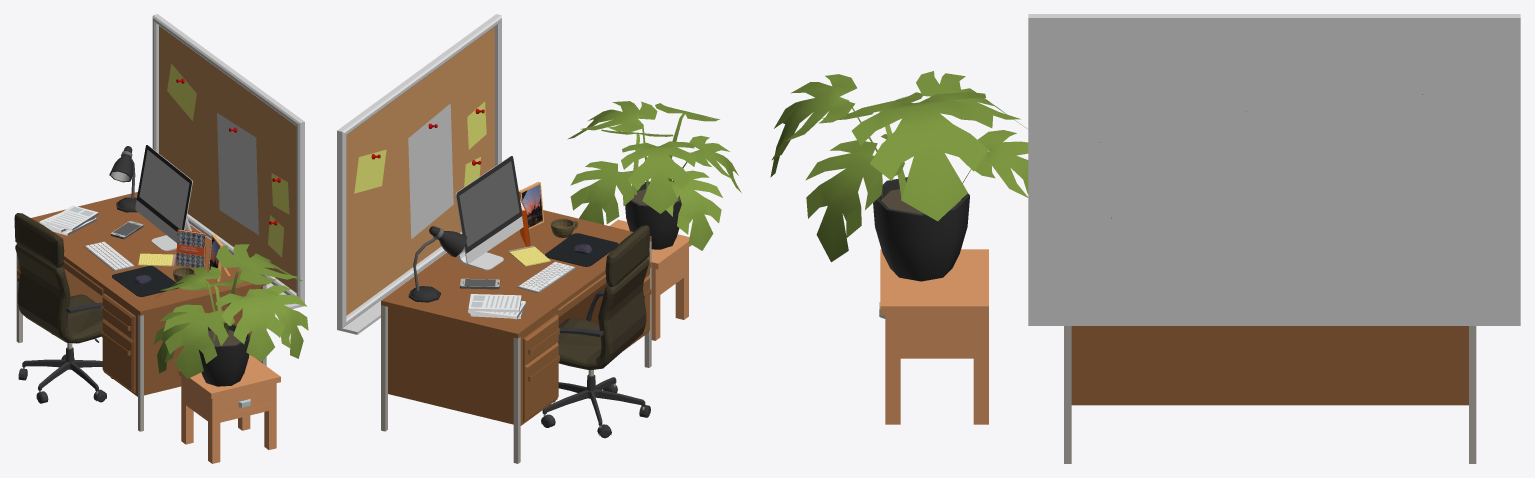
Rendered from scene-full.glb.
3 views of the same model, side by side, from view 1: azimuth 30°, elevation 25°; view 2: azimuth 150°, elevation 25°; view 3: azimuth 270°, elevation 25° (orthographic). The views are drawn at different scales.
Visible parts, largest first — view 1: Message_Board, Desk, Houseplant, Chair, Cabinet Bed Drawer Tabl, Monitor_Plane, Monitor.001|iMac|Dupli|, Mousepad, Paper, VAP-cover, Light Desk, Notebook; view 2: Message_Board, Desk, Houseplant, Chair, Monitor_Plane, Cabinet Bed Drawer Tabl, Monitor.001|iMac|Dupli|, Mousepad, Light Desk, Paper, cornell-tech-sky, Notebook (+1 smaller); view 3: Message_Board, Desk, Houseplant, Cabinet Bed Drawer Tabl.
Boxes of the visible parts, bbox=[...] form: Message_Board: bbox=[152, 14, 304, 308]; Desk: bbox=[16, 192, 266, 431]; Houseplant: bbox=[153, 244, 308, 386]; Chair: bbox=[14, 213, 112, 403]; Cabinet Bed Drawer Tabl: bbox=[178, 354, 280, 463]; Monitor_Plane: bbox=[139, 149, 189, 229]; Monitor.001|iMac|Dupli|: bbox=[135, 145, 192, 251]; Mousepad: bbox=[112, 266, 178, 296]; Paper: bbox=[39, 205, 98, 235]; VAP-cover: bbox=[176, 231, 204, 267]; Light Desk: bbox=[109, 146, 137, 212]; Notebook: bbox=[138, 253, 176, 266]; Message_Board: bbox=[337, 14, 501, 334]; Desk: bbox=[381, 210, 651, 463]; Houseplant: bbox=[567, 101, 741, 250]; Chair: bbox=[541, 225, 650, 438]; Monitor_Plane: bbox=[459, 161, 519, 246]; Cabinet Bed Drawer Tabl: bbox=[610, 219, 691, 340]; Monitor.001|iMac|Dupli|: bbox=[455, 156, 523, 270]; Mousepad: bbox=[545, 233, 618, 266]; Light Desk: bbox=[408, 226, 466, 302]; Paper: bbox=[468, 294, 526, 319]; cornell-tech-sky: bbox=[521, 184, 542, 227]; Notebook: bbox=[508, 245, 550, 266]; Message_Board: bbox=[1028, 14, 1520, 325]; Desk: bbox=[1064, 326, 1476, 463]; Houseplant: bbox=[770, 71, 1028, 281]; Cabinet Bed Drawer Tabl: bbox=[879, 249, 988, 424].
Size of the model in its own units: 1.65 by 2.17 by 3.15.
41 materials, 4 textured.
